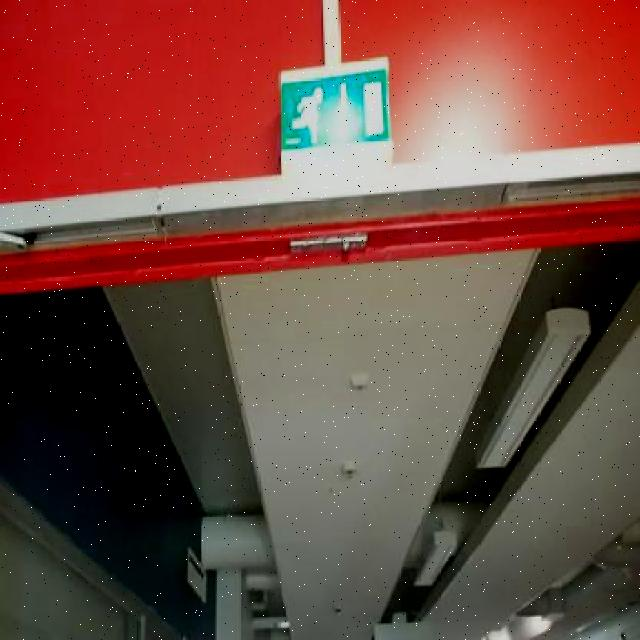emergency_exit: (1, 0, 639, 292), (278, 55, 394, 168)
